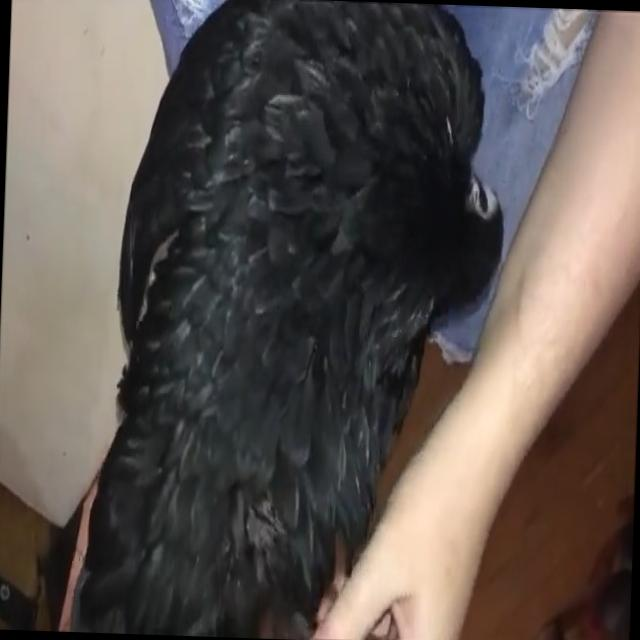self preening: (97, 0, 516, 640)
